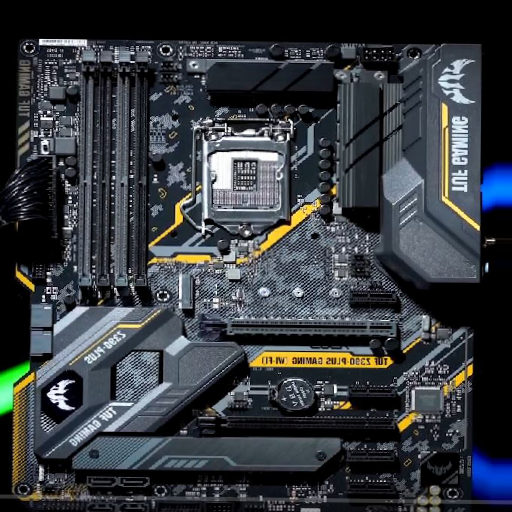CPU: (200, 118, 295, 242)
GPU: (199, 317, 402, 339), (198, 411, 398, 433)
MOTHERBOARD: (13, 43, 474, 507)
RAM: (77, 47, 153, 300)
SSD: (175, 272, 197, 311)
